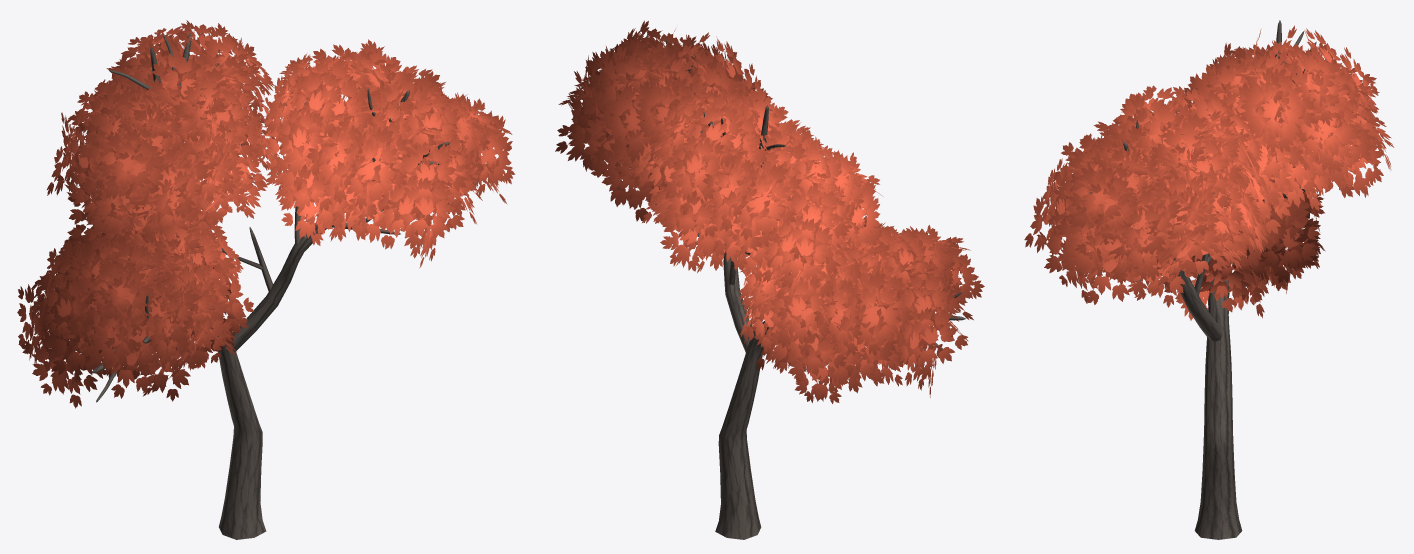
File: q_maple_5.glb
3 renders of one model, left to right at view 1: azimuth 30°, elevation 25°; view 2: azimuth 150°, elevation 25°; view 3: azimuth 270°, elevation 25°, orthographic. The views are drawn at different scales.
Visible parts, largest first — view 1: MapleTree_5; view 2: MapleTree_5; view 3: MapleTree_5.
Boxes of the visible parts, x1,y1,x2,y2 form: MapleTree_5: (17,20,515,539); MapleTree_5: (555,20,984,539); MapleTree_5: (1024,20,1394,539).
Size of the model in its own units: 10.6 by 11 by 7.67.
2 materials, 2 textured.
